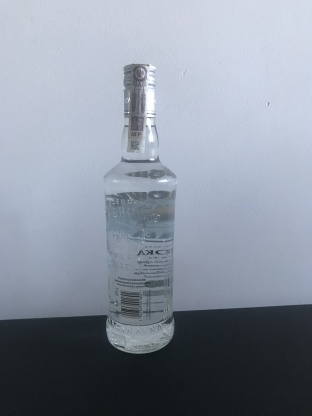nakretka: (120, 61, 158, 121)
